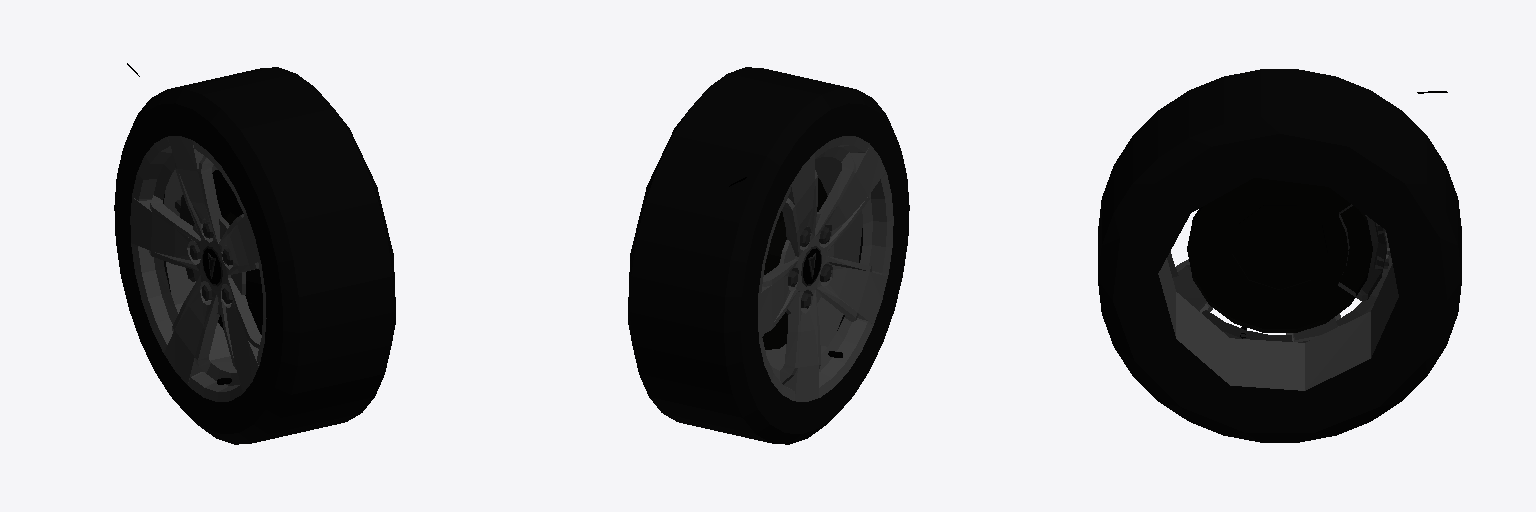
File: Right-Weel.obj
3 views of the same model, side by side, from view 1: azimuth 30°, elevation 25°; view 2: azimuth 150°, elevation 25°; view 3: azimuth 270°, elevation 25° (orthographic).
Visible parts, largest first — view 1: obj0; view 2: obj0; view 3: obj0.
Boxes of the visible parts, x1,y1,x2,y2 form: obj0: [114, 63, 395, 444]; obj0: [628, 67, 909, 444]; obj0: [1098, 69, 1461, 442].
Size of the model in its own units: 0.8207 by 2.17 by 2.17.